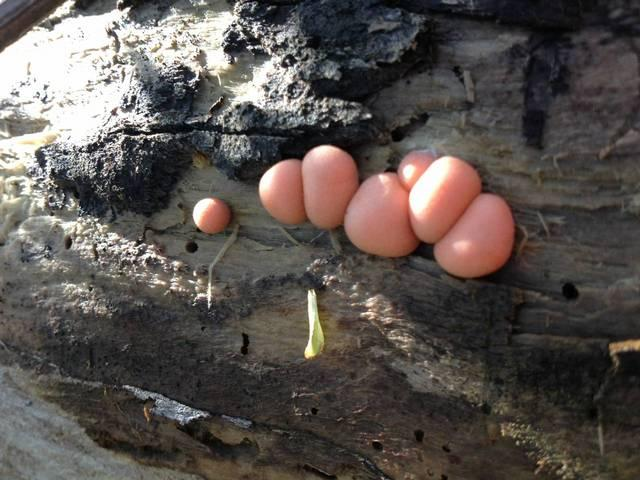poisonous_mushroom: (257, 142, 516, 279), (432, 191, 515, 278), (407, 154, 481, 244), (343, 171, 419, 258), (300, 143, 359, 230), (257, 157, 306, 226), (396, 148, 437, 191), (191, 196, 232, 234)
